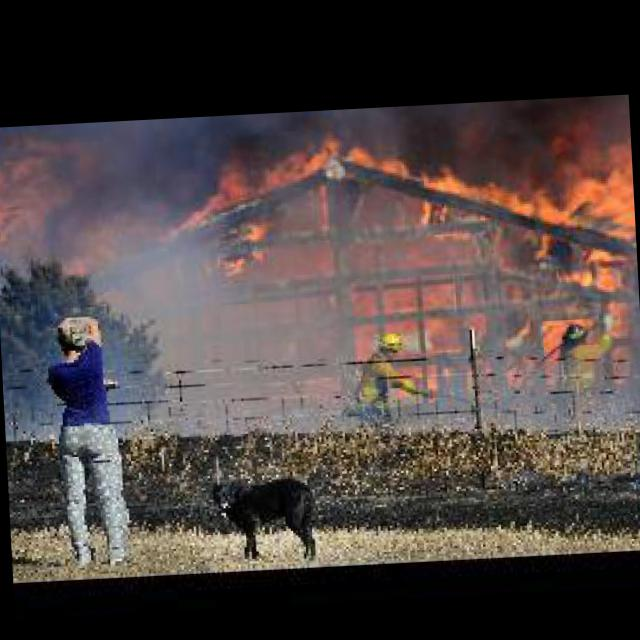fire: (198, 101, 640, 343), (0, 155, 55, 236)
